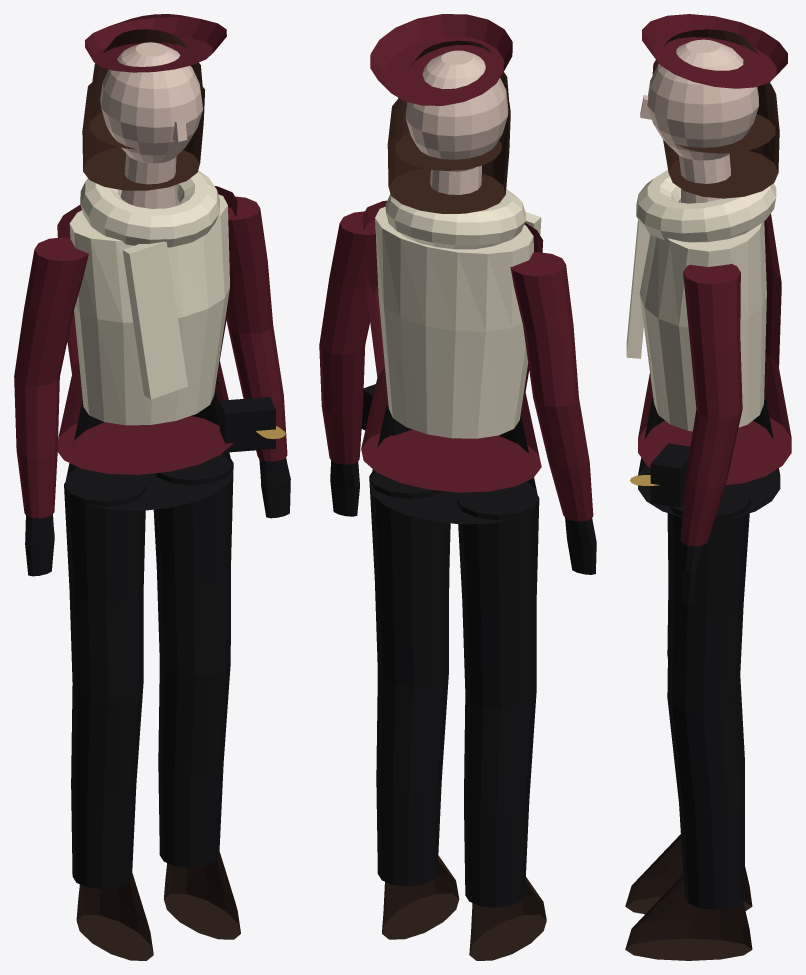
The model's file is CH_Protagonista_B.obj.
3 views of the same model, side by side, from view 1: azimuth 30°, elevation 25°; view 2: azimuth 150°, elevation 25°; view 3: azimuth 270°, elevation 25° (orthographic).
Parts seen in each view (by area): view 1: BodyGroup, HeadGroup; view 2: BodyGroup, HeadGroup; view 3: BodyGroup, HeadGroup.
Part boxes in pixels (left/top/right/bottom): BodyGroup: left=14, top=170, right=290, bottom=960; HeadGroup: left=82, top=14, right=226, bottom=208; BodyGroup: left=319, top=189, right=596, bottom=960; HeadGroup: left=370, top=14, right=512, bottom=213; BodyGroup: left=625, top=170, right=791, bottom=960; HeadGroup: left=640, top=14, right=787, bottom=203.
Bounding box in the file's own units: 0.536 × 1.73 × 0.2879.
